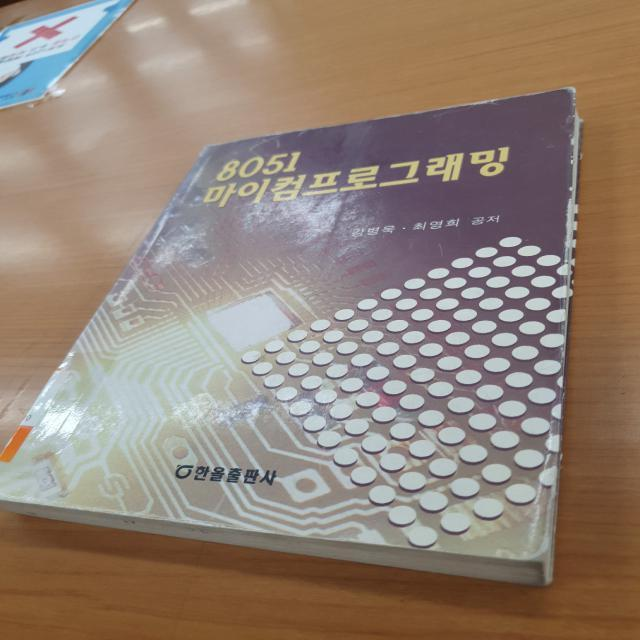Wornout: (90, 507, 236, 533), (525, 494, 561, 562), (435, 91, 544, 111), (561, 179, 577, 255), (368, 108, 432, 125), (560, 255, 573, 338), (565, 118, 580, 171), (559, 84, 581, 106)
